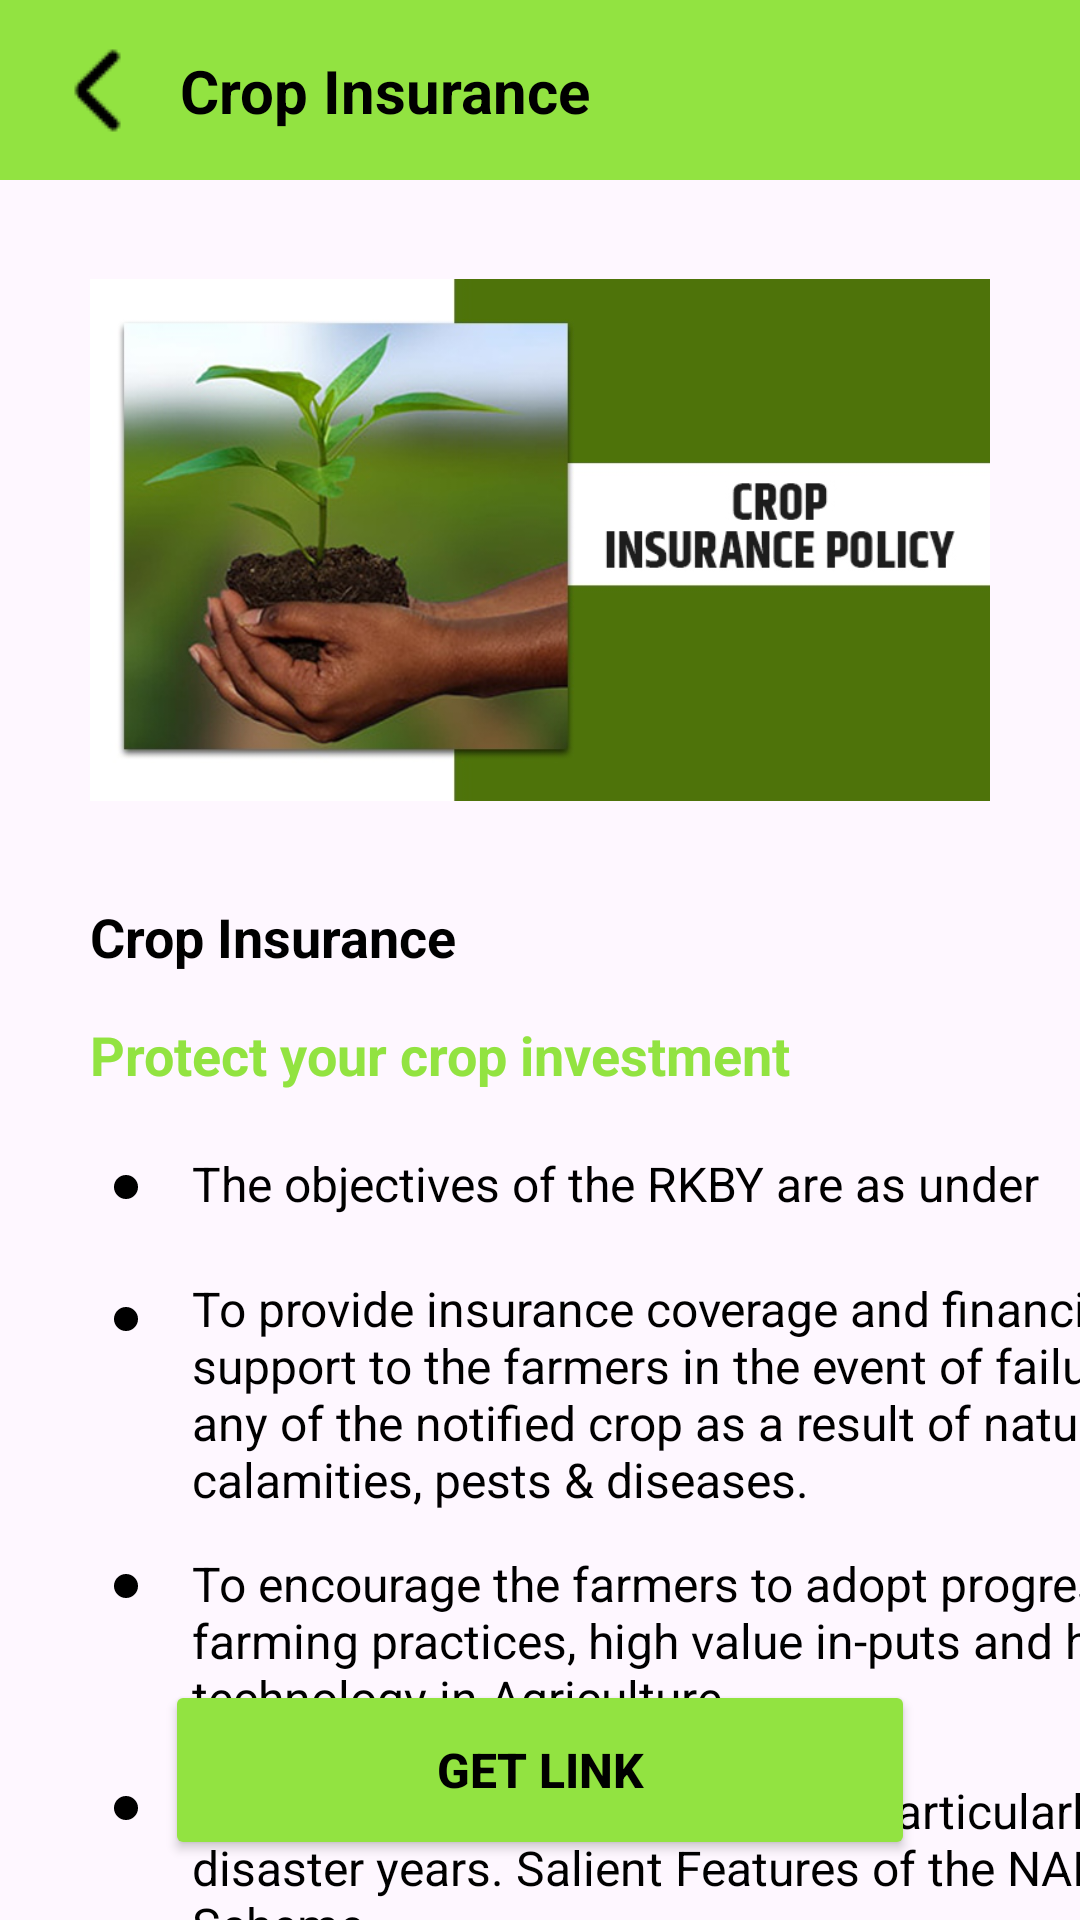

Point at icon controls on the screen. Image size 1080 × 1920, points as point (x, y).
back arrow: point (97, 90)
